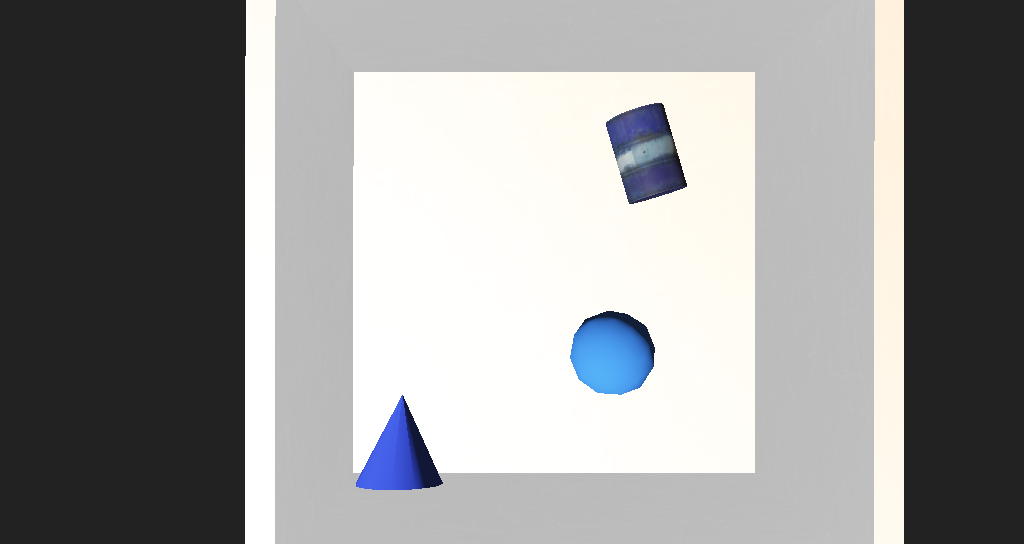cone: (539, 177, 606, 234)
cylinder: (354, 327, 428, 389)
sphere: (512, 286, 579, 334)
